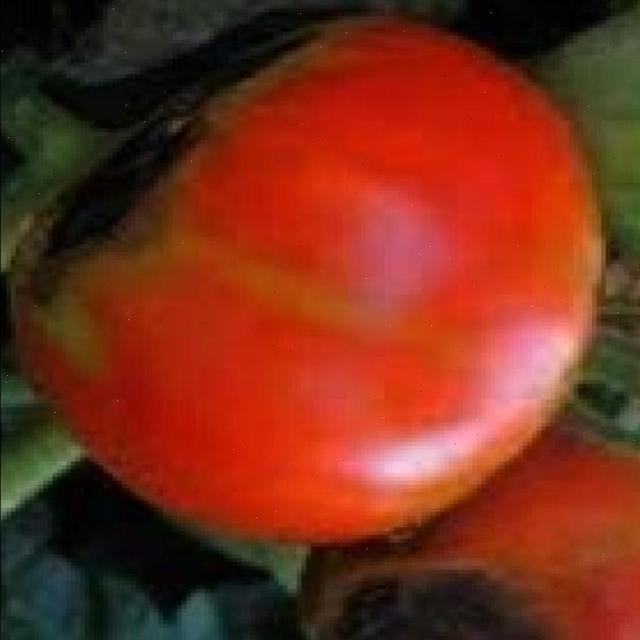Blossom End Rot Fruit: (124, 47, 297, 403)
